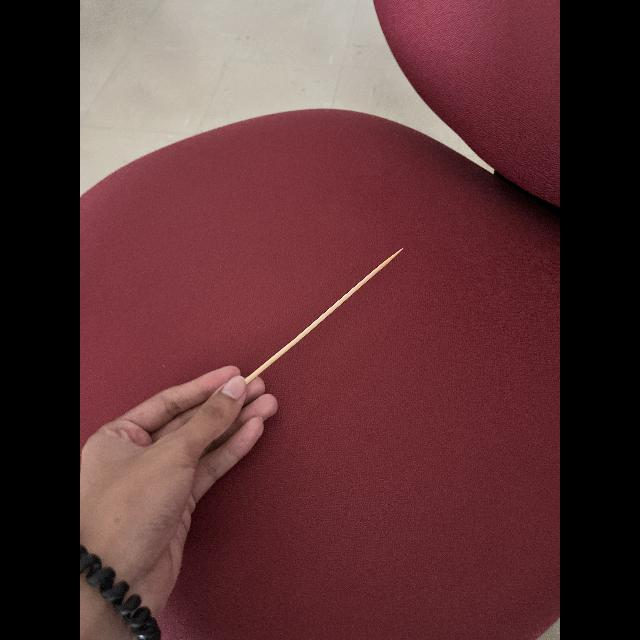stick: (239, 233, 407, 394)
